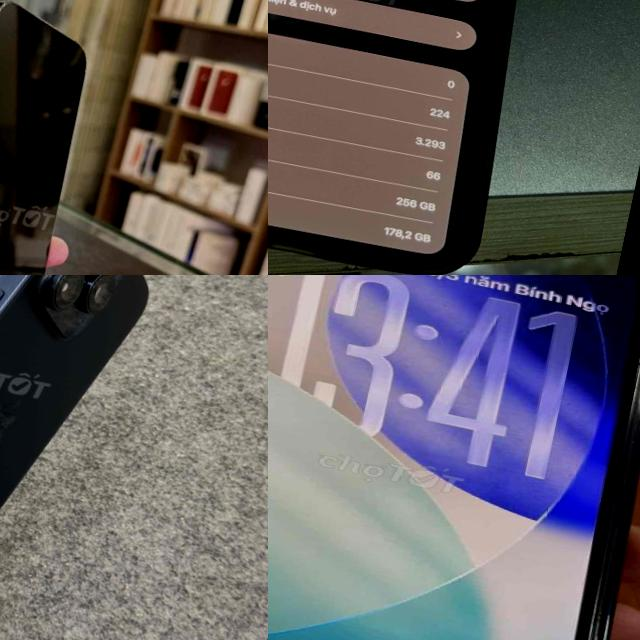gen_12_13: (268, 275, 640, 640)
gen_14: (0, 0, 110, 275)
gen_15: (268, 0, 596, 275), (0, 275, 176, 640)
